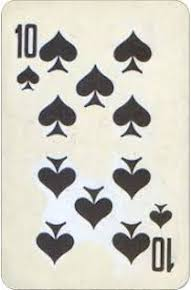TenOfSpades: (1, 1, 191, 289)
